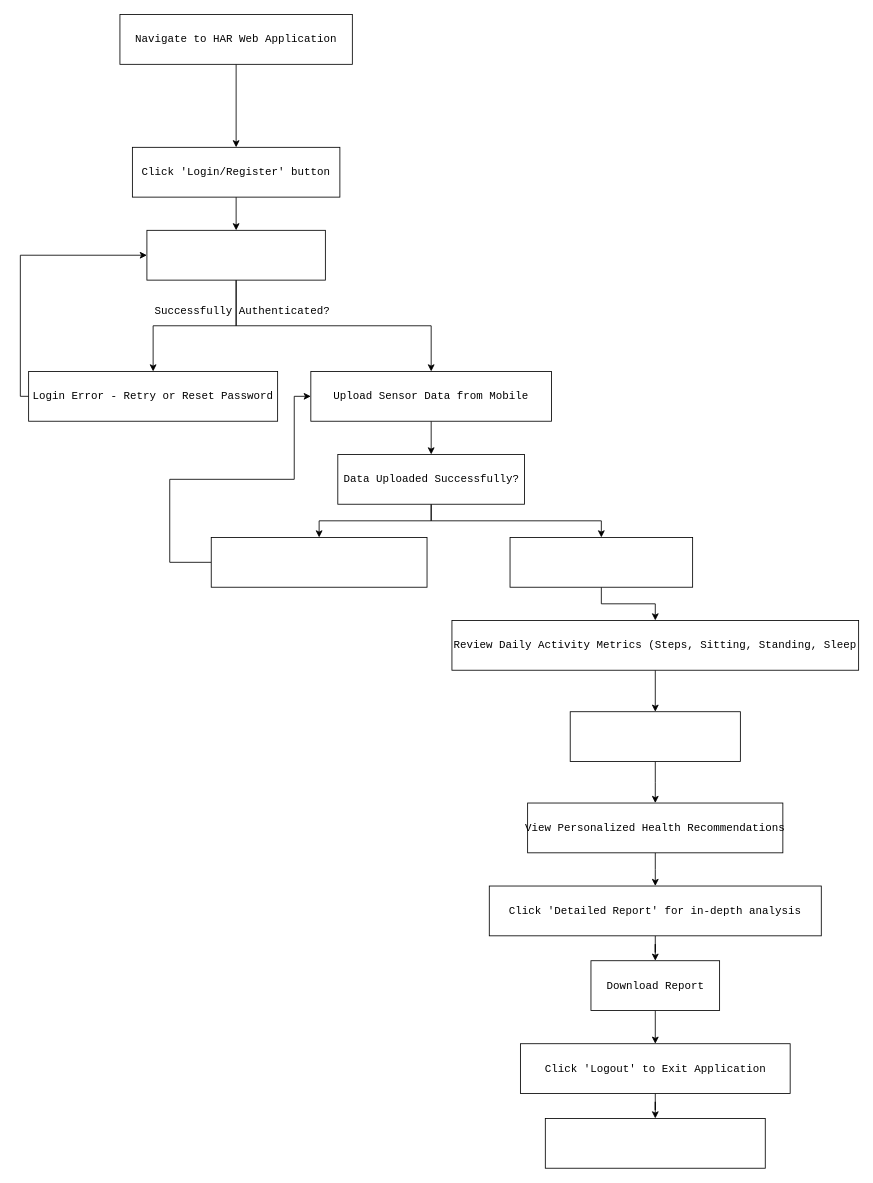
The diagram is 873 pixels wide and 1183 high, and some of its shapes have lost their labels. The centre of each missing label's shape, as x and y in pixels:
"Confirm Data Upload or Retry" belongs at point 318,562.
"Enter Username & Password" belongs at point 235,254.
"Successfully Logged Out" belongs at point 654,1143.
"View Calculated BMR" belongs at point 654,736.
"View Dashboard Summary" belongs at point 601,562.
